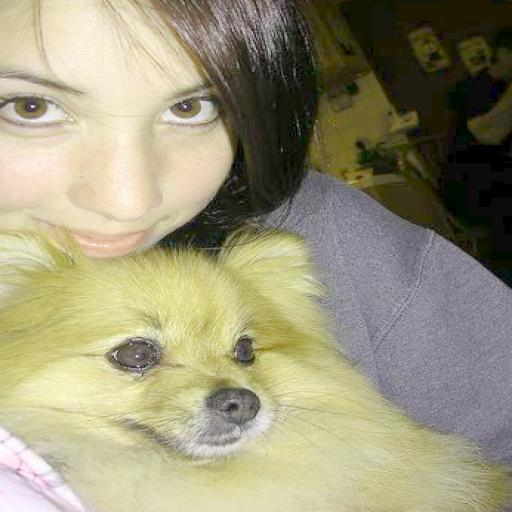dog_face: (0, 231, 327, 462)
